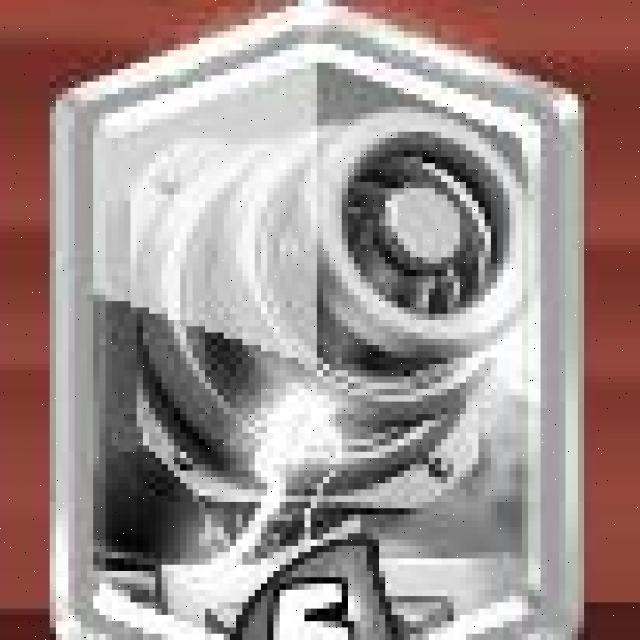Sparky: (56, 2, 580, 640)
